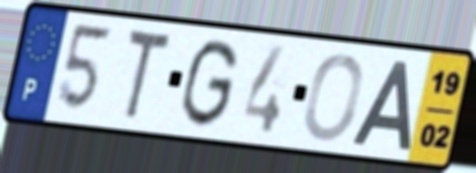4: (240, 42, 288, 139)
5: (54, 20, 116, 117)
A: (348, 58, 413, 152)
G: (177, 37, 241, 131)
O: (300, 51, 367, 144)
T: (123, 25, 174, 126)
